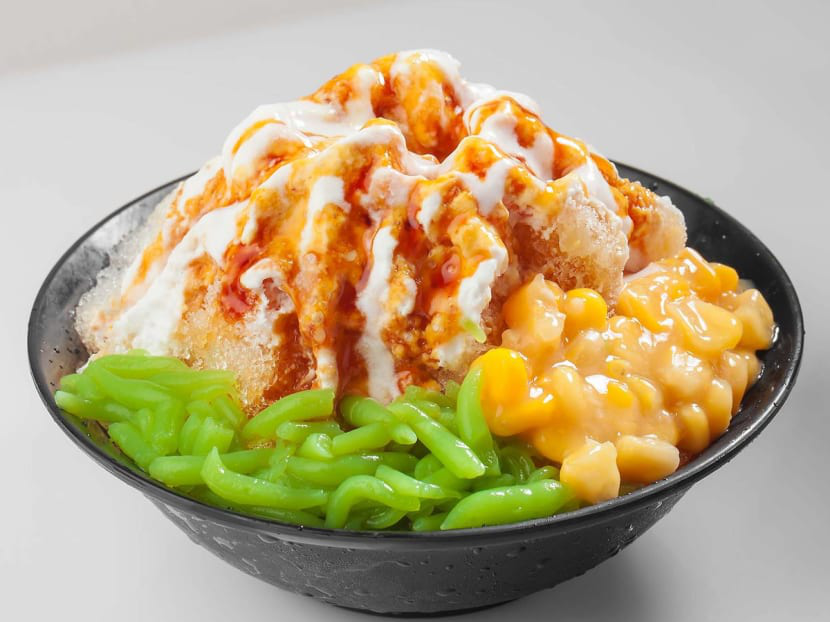Chendol: (51, 63, 816, 551)
